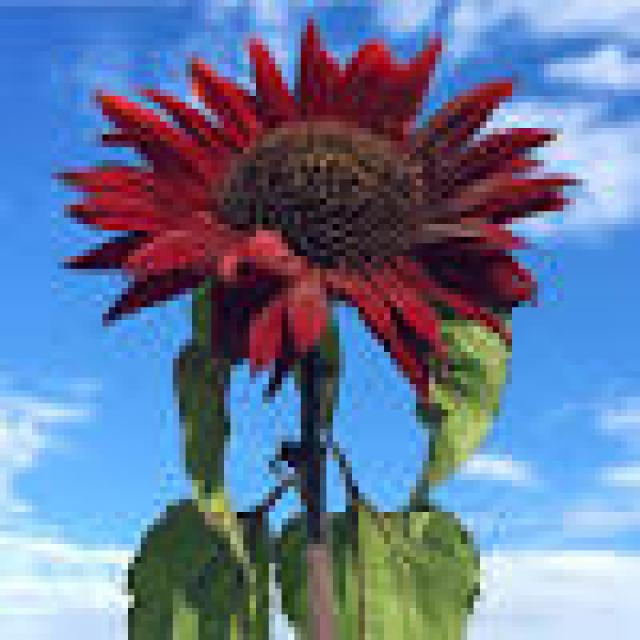sunflower: (40, 10, 598, 412)
